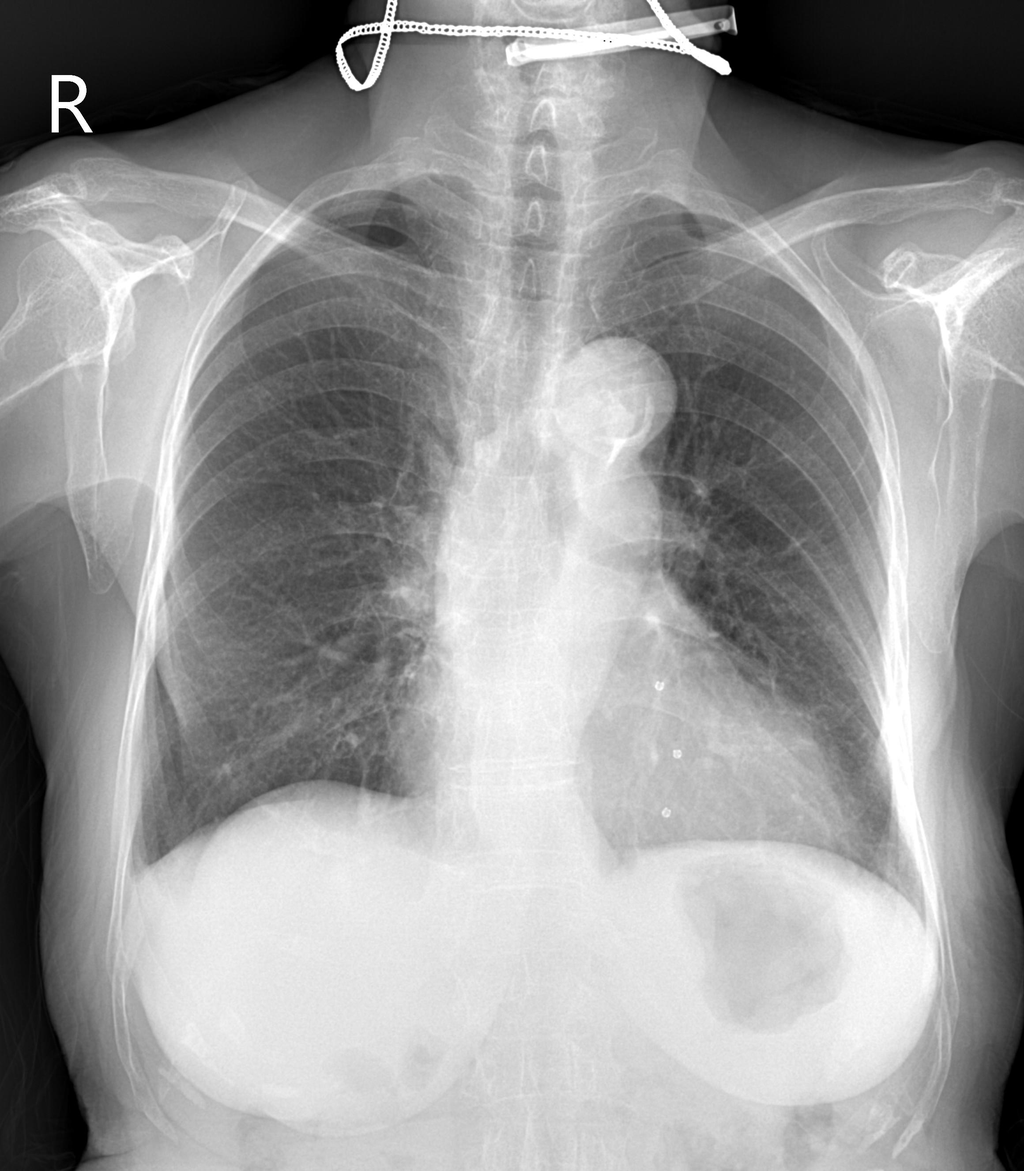Aortic enlargement: (543, 334, 677, 494)
Cardiomegaly: (385, 676, 852, 853)
